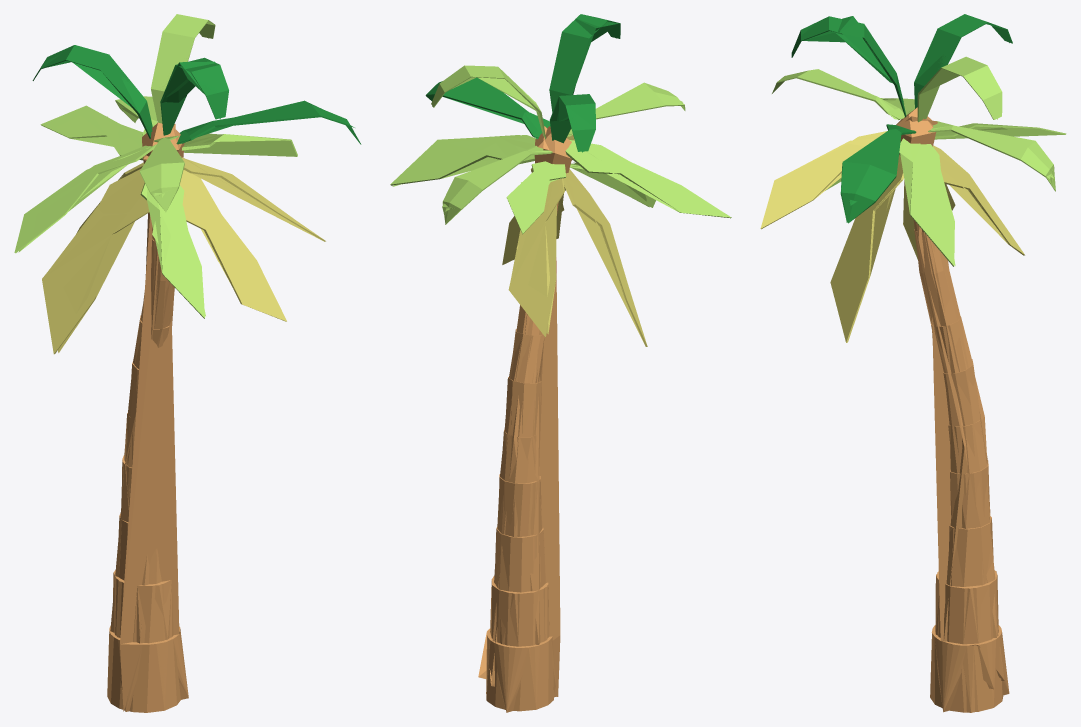
The model's file is palmaCala_LOD.fbx.
3 views of the same model, side by side, from view 1: azimuth 30°, elevation 25°; view 2: azimuth 150°, elevation 25°; view 3: azimuth 270°, elevation 25° (orthographic). The views are drawn at different scales.
Visible parts, largest first — view 1: palm0, palm3, palm1, palm2; view 2: palm0, palm1, palm2, palm3; view 3: palm0, palm1, palm2, palm3.
Boxes of the visible parts, x1,y1,x2,y2 form: palm0: (14,14,360,712); palm3: (41,20,354,711); palm1: (33,38,360,711); palm2: (18,22,352,711); palm0: (390,14,731,711); palm1: (398,19,708,711); palm2: (392,21,676,712); palm3: (432,18,682,696); palm0: (760,14,1066,712); palm1: (778,16,1054,712); palm2: (787,22,1054,712); palm3: (796,16,1007,689).
Size of the model in its own units: 239 by 466 by 193.
